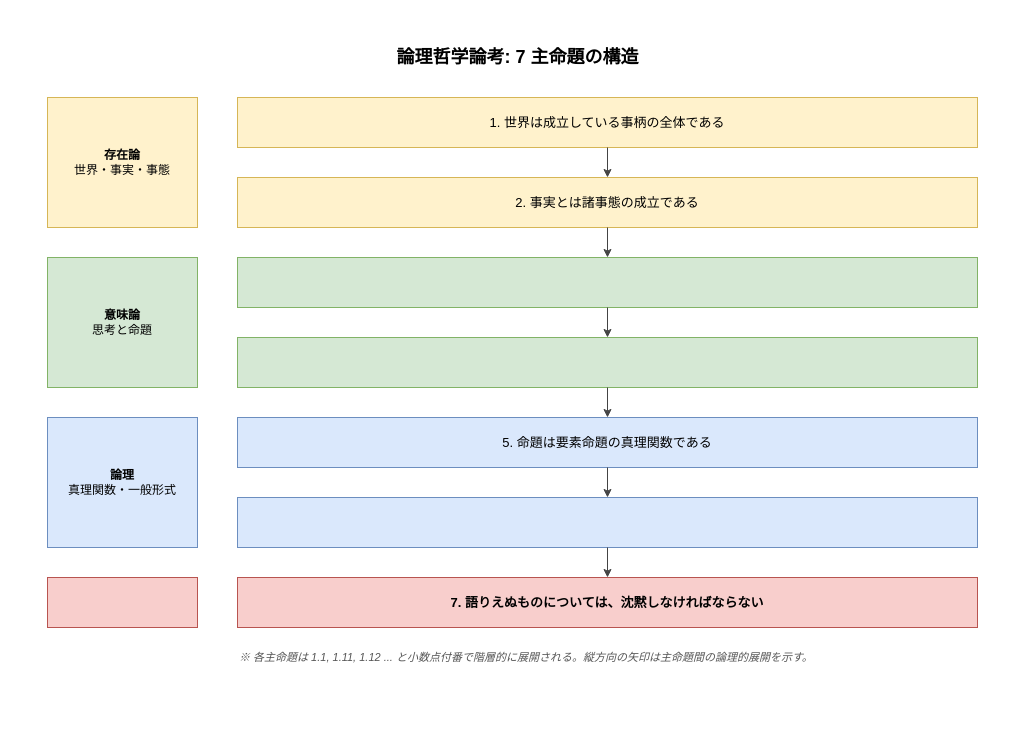
Image size: 1034x754. Some labels were removed from this diagram. The centre of each missing label's shape, as x and y in pixels:
3. 事実の論理像が思考である: the point at 607,282
4. 思考は、有意味な命題である: the point at 607,362
6. 真理関数の一般形式は [p, ξ, N(ξ)] である: the point at 607,522
語りえぬもの 倫理・神秘: the point at 122,602
